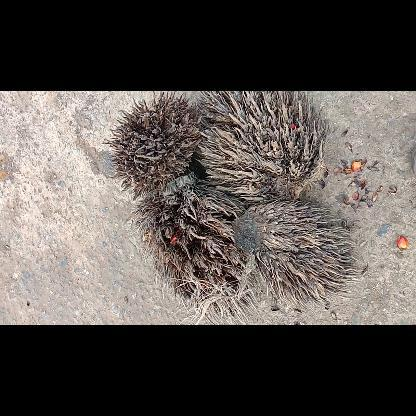Janjang kosong: (130, 172, 260, 324), (232, 198, 361, 308), (197, 90, 325, 200), (103, 90, 201, 200)
